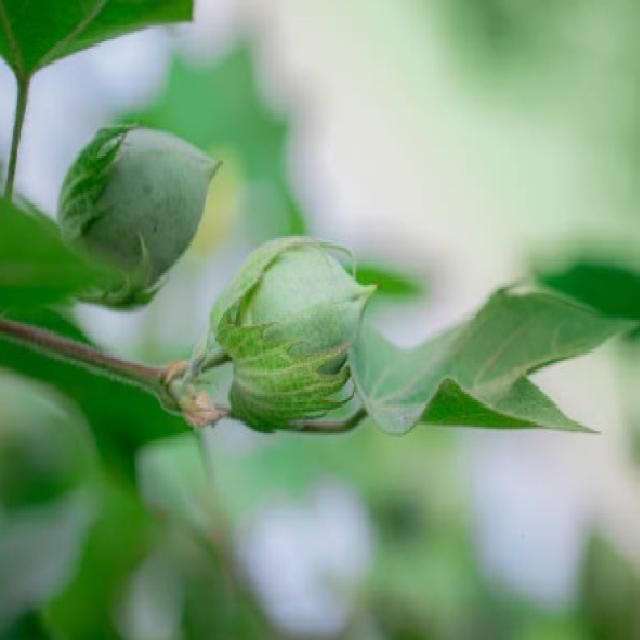Early Boll: (202, 234, 382, 432), (55, 122, 227, 313)
